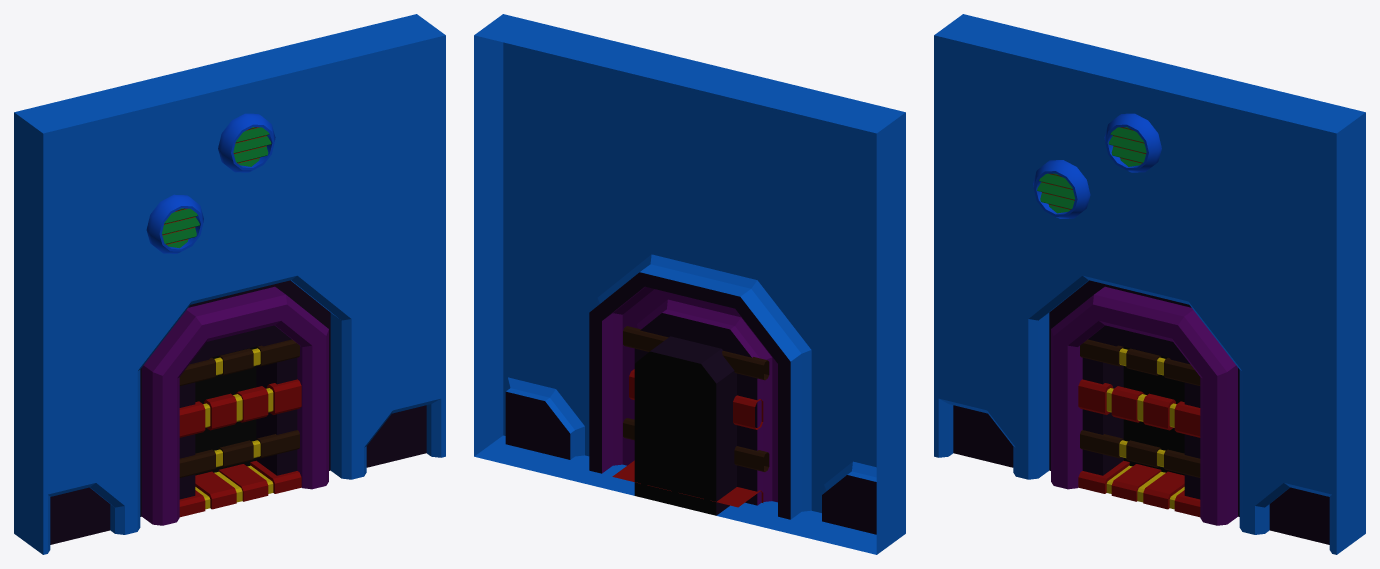
File: OBJ_1_Mur_Sym.fbx
The picture shows the model from 3 angles, left to right: view 1: azimuth 30°, elevation 25°; view 2: azimuth 150°, elevation 25°; view 3: azimuth 330°, elevation 25°; orthographic projection.
Visible parts, largest first — view 1: OBJ_1_Mur_Sym; view 2: OBJ_1_Mur_Sym; view 3: OBJ_1_Mur_Sym.
Part boxes in pixels (x1,y1,x2,y2): OBJ_1_Mur_Sym: (14, 14, 445, 554); OBJ_1_Mur_Sym: (474, 14, 905, 554); OBJ_1_Mur_Sym: (934, 14, 1365, 554).
Size of the model in its own units: 16 by 16 by 2.59.
